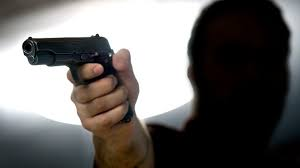gun: (18, 30, 137, 127)
